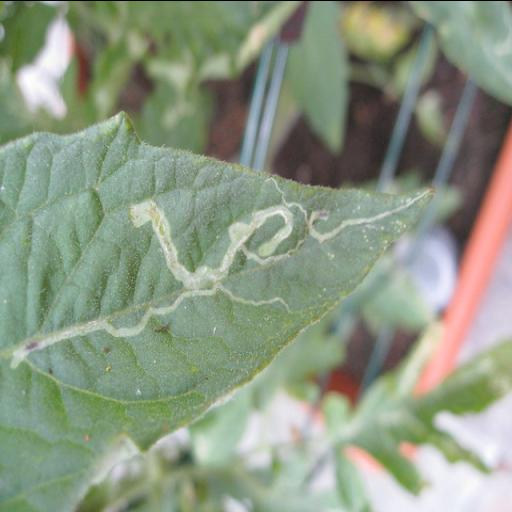Leaf Miner: (0, 111, 436, 512)
